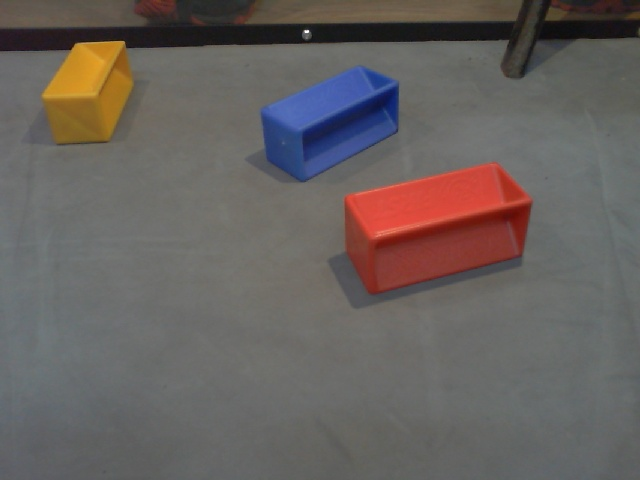BlueSample: (257, 62, 402, 182)
RedSample: (340, 160, 535, 297)
YellowSample: (42, 38, 138, 150)
